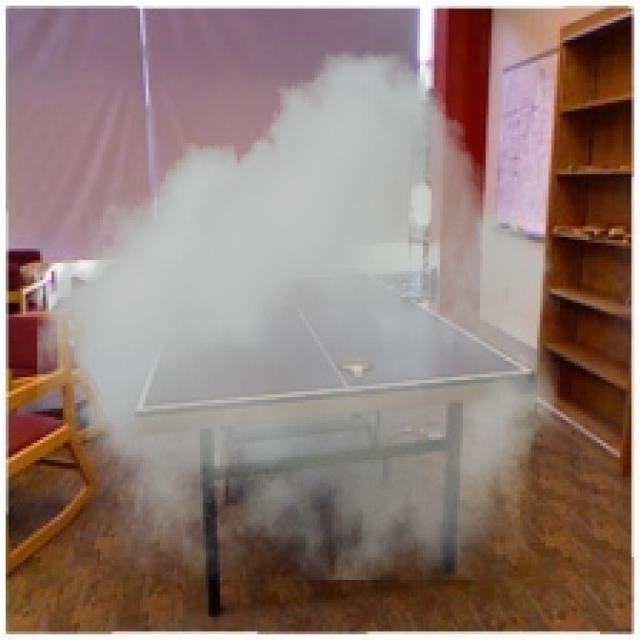Smoke: (37, 51, 560, 580)
